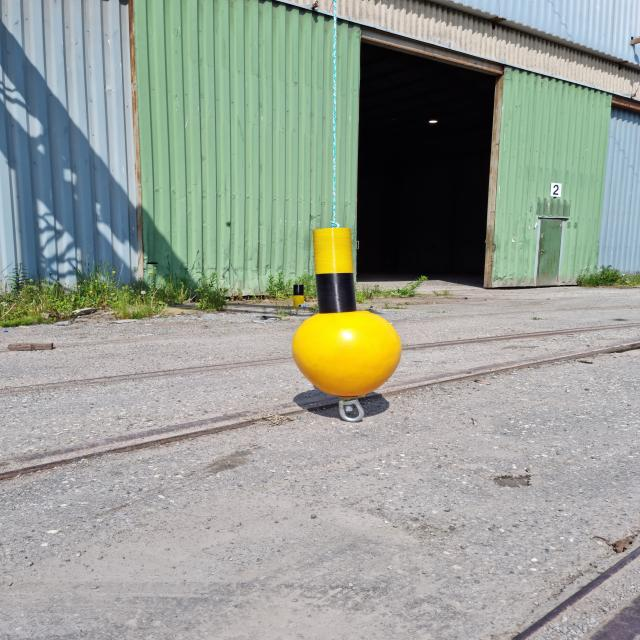west: (291, 229, 401, 397)
